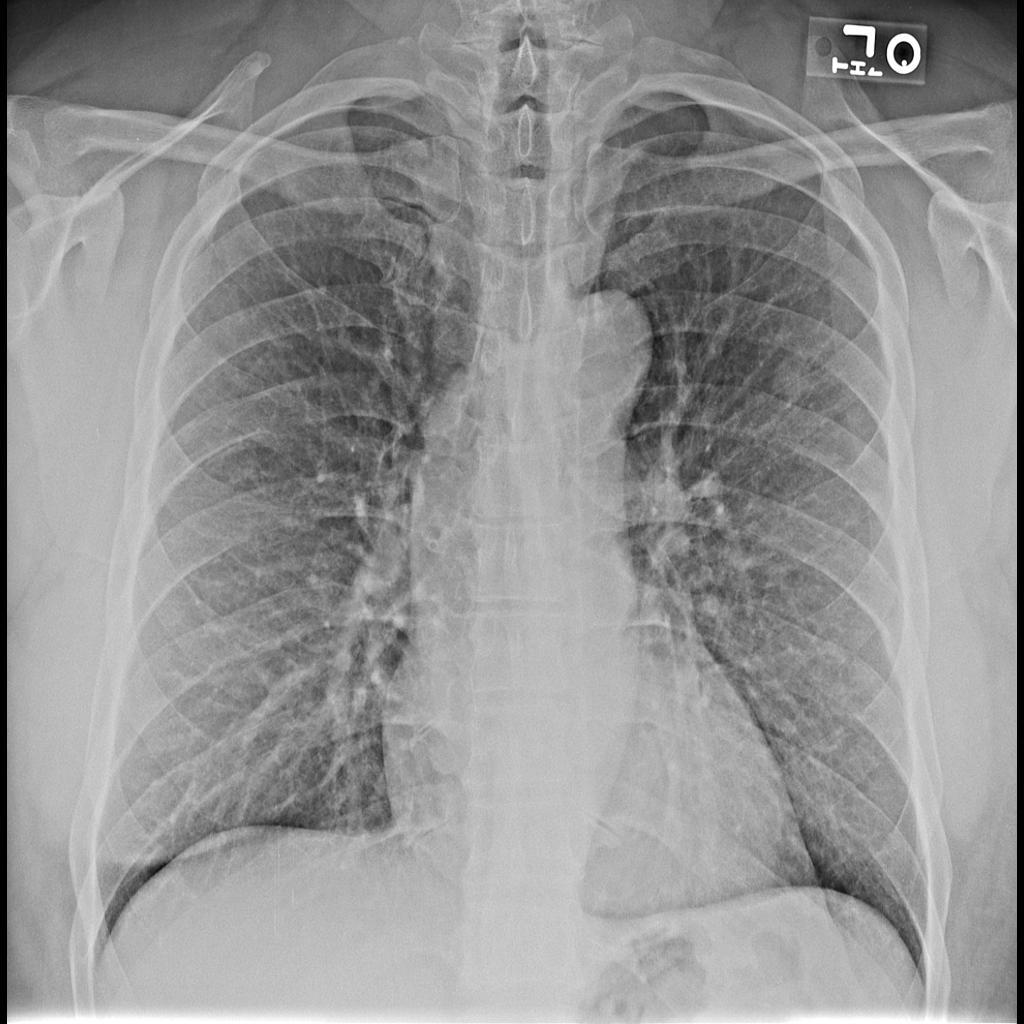Nodule: (769, 352, 820, 409)
